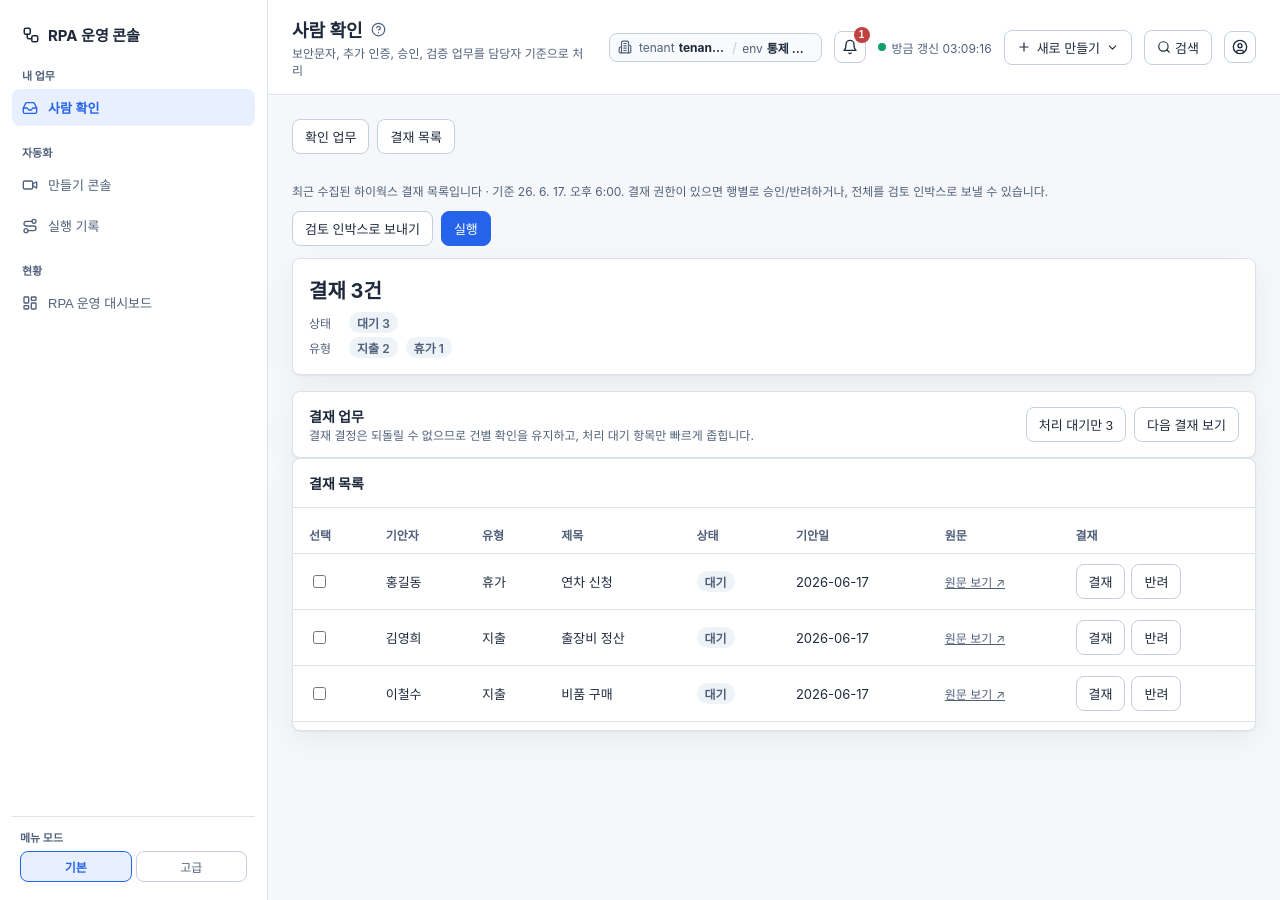
결재 인박스 — 건별 결재(2c) › approver → '앞으로 자동으로' 체크 → fanOutApprovals(enableAuto=true) → 자동 활성 안내
Expected: the text "연차 신청" is shown, left=545, top=554, right=680, bottom=610
Step 1. Click the button "검토 인박스로 보내기" → (362, 228), box left=292, top=211, right=433, bottom=246
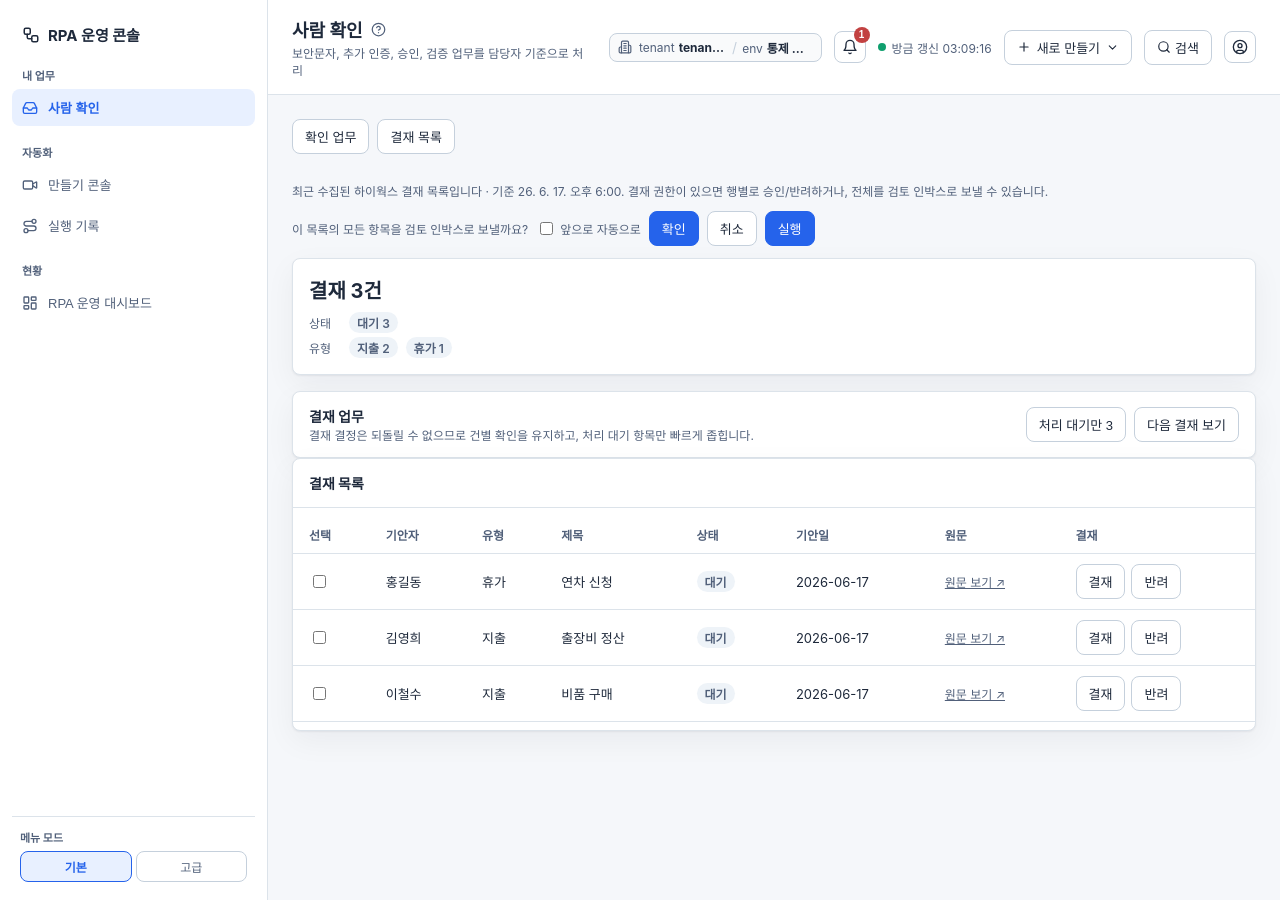
Step 2. Click the checkbox named "앞으로 자동으로 검토 인박스로 보내기" → (547, 228), box left=540, top=222, right=553, bottom=235
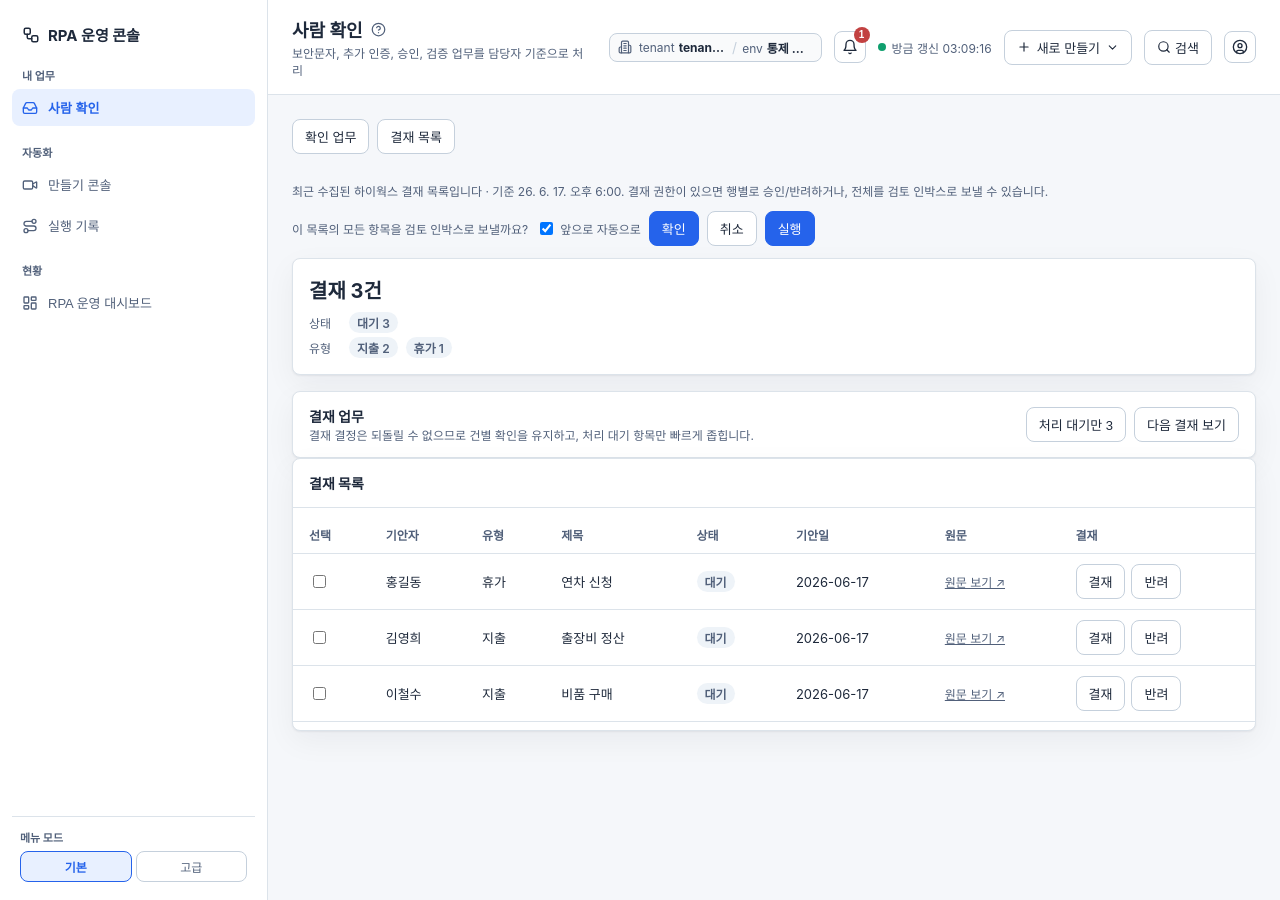
Step 3. Click the button "확인" → (674, 228), box left=649, top=211, right=699, bottom=246
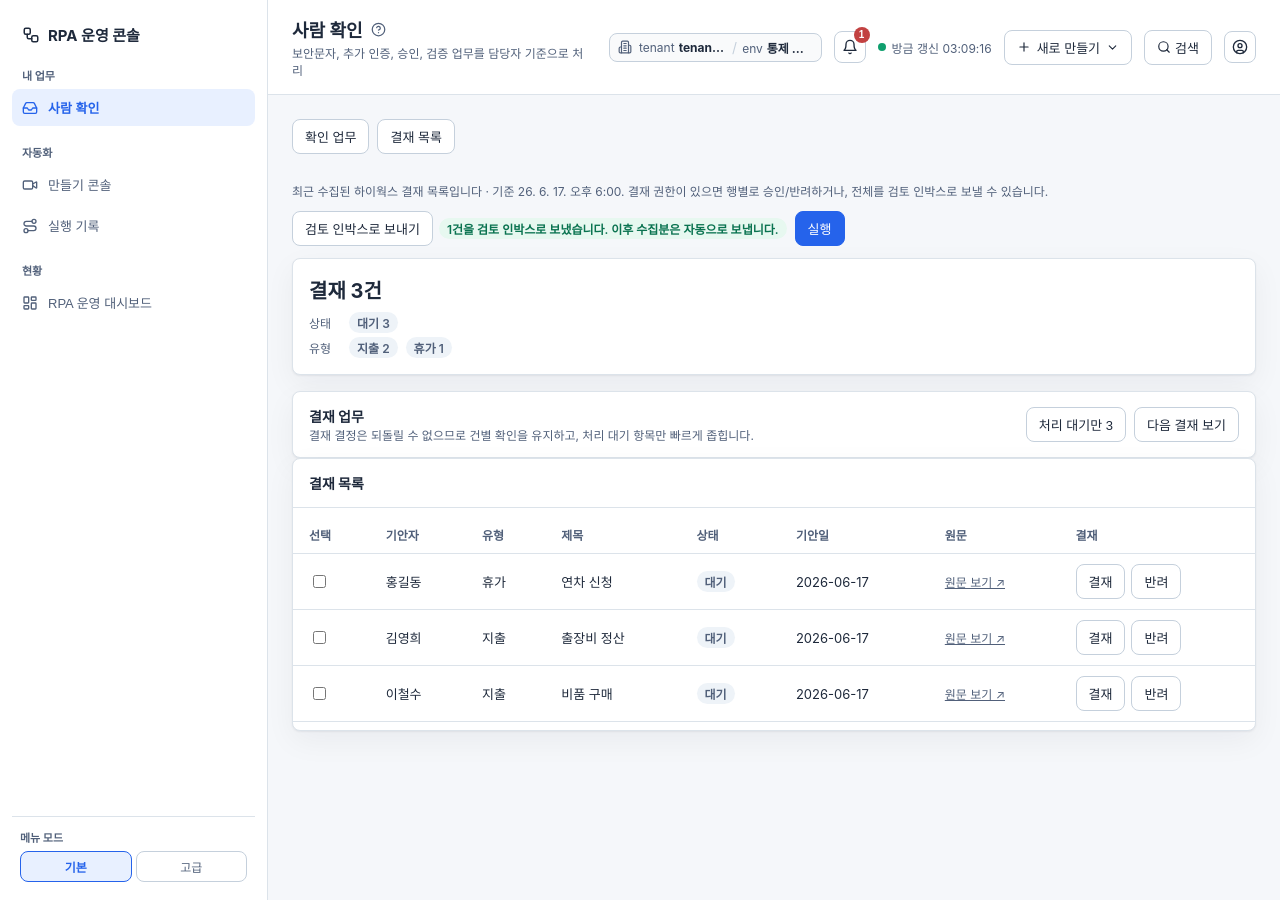
Expected: the text "1건을 검토 인박스로 보냈습니다. 이후 수집분은 자동으로 보냅니다." is shown, left=439, top=218, right=787, bottom=239
